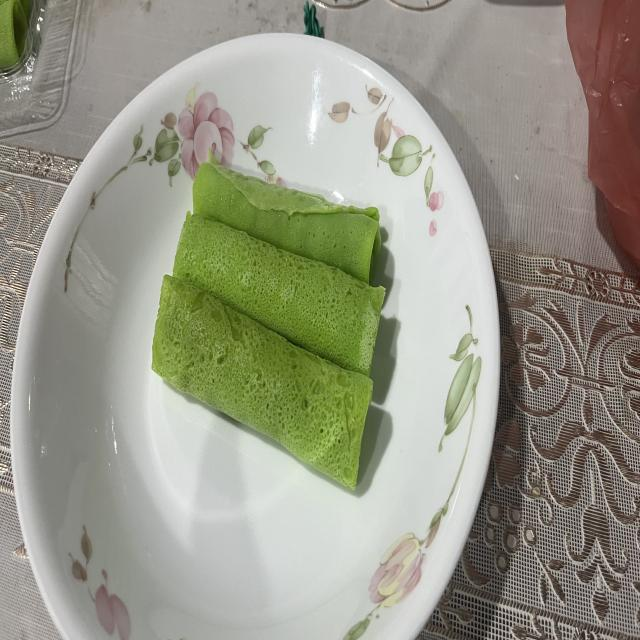Kuih-Ketayap: (152, 276, 372, 489), (174, 216, 385, 376), (192, 162, 380, 282)
